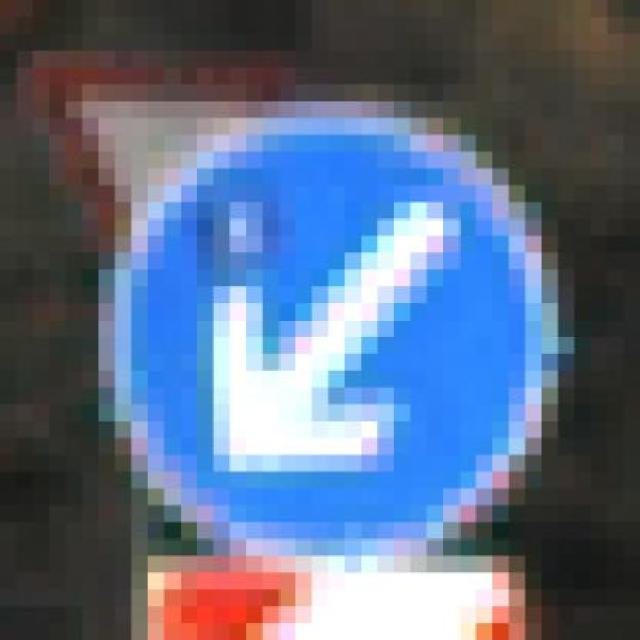Keep-Left: (98, 67, 608, 573)
